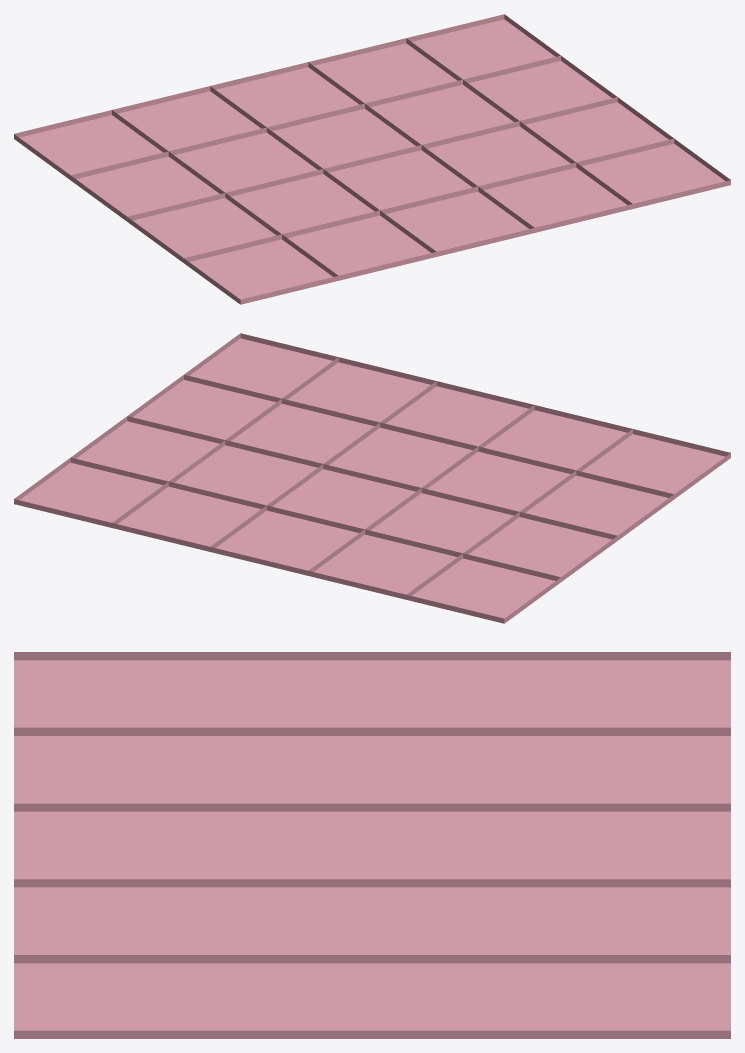
Rendered from GarageCeiling.fbx.
The picture shows the model from 3 angles, top to bottom: view 1: azimuth 30°, elevation 25°; view 2: azimuth 150°, elevation 25°; view 3: azimuth 270°, elevation 25°; orthographic projection. The views are drawn at different scales.
Visible parts, largest first — view 1: GarageCeiling; view 2: GarageCeiling; view 3: GarageCeiling.
Part boxes in pixels (x1,y1,x2,y2): GarageCeiling: [14, 14, 730, 304]; GarageCeiling: [14, 333, 730, 623]; GarageCeiling: [14, 652, 730, 1038].
Size of the model in its own units: 2000 by 20 by 1600.
